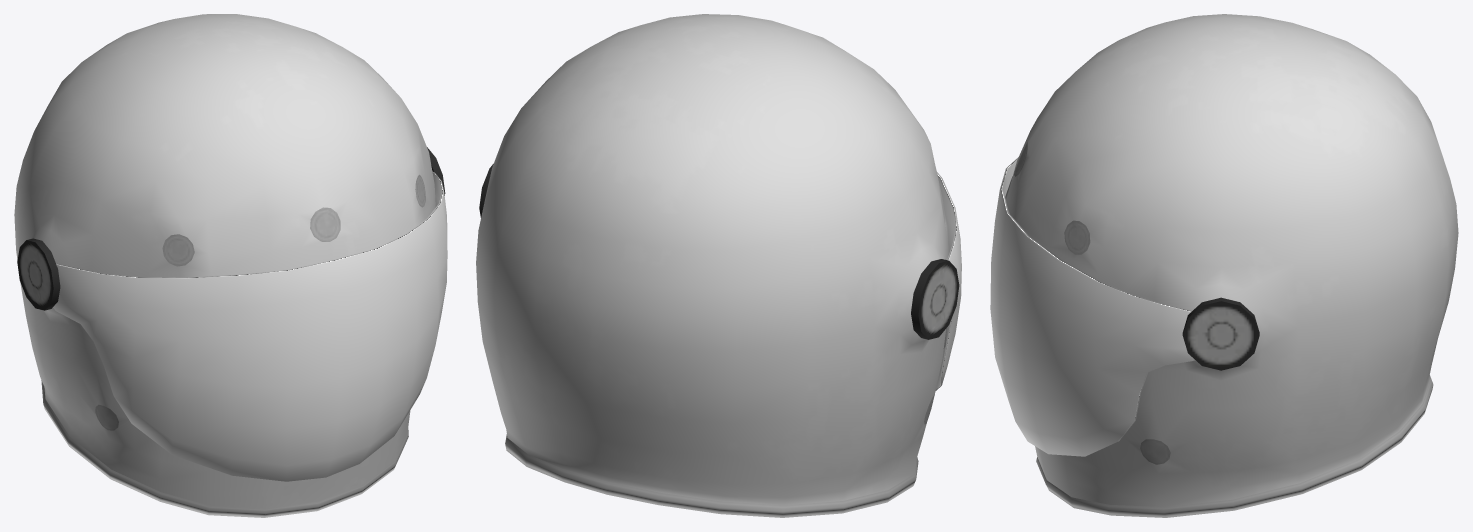
Rendered from p0_hdw0102_00_hdw00.gltf.
3 renders of one model, left to right at view 1: azimuth 30°, elevation 25°; view 2: azimuth 150°, elevation 25°; view 3: azimuth 270°, elevation 25°, orthographic. The views are drawn at different scales.
Parts seen in each view (by area): view 1: hdw00_met_mesh_shape:cap, hdw00_faceshield_mesh_shape:faceshield; view 2: hdw00_met_mesh_shape:cap, hdw00_faceshield_mesh_shape:faceshield; view 3: hdw00_met_mesh_shape:cap, hdw00_faceshield_mesh_shape:faceshield.
Boxes of the visible parts, box(x1,y1,x2,y2) form: hdw00_met_mesh_shape:cap: box(14, 14, 445, 517); hdw00_faceshield_mesh_shape:faceshield: box(53, 171, 447, 481); hdw00_met_mesh_shape:cap: box(476, 14, 959, 517); hdw00_faceshield_mesh_shape:faceshield: box(935, 171, 961, 390); hdw00_met_mesh_shape:cap: box(1005, 14, 1458, 517); hdw00_faceshield_mesh_shape:faceshield: box(990, 157, 1195, 456).
Size of what is drawn, in the model's own units: 0.3041 by 0.3018 by 0.2989.
3 materials, 1 textured.
